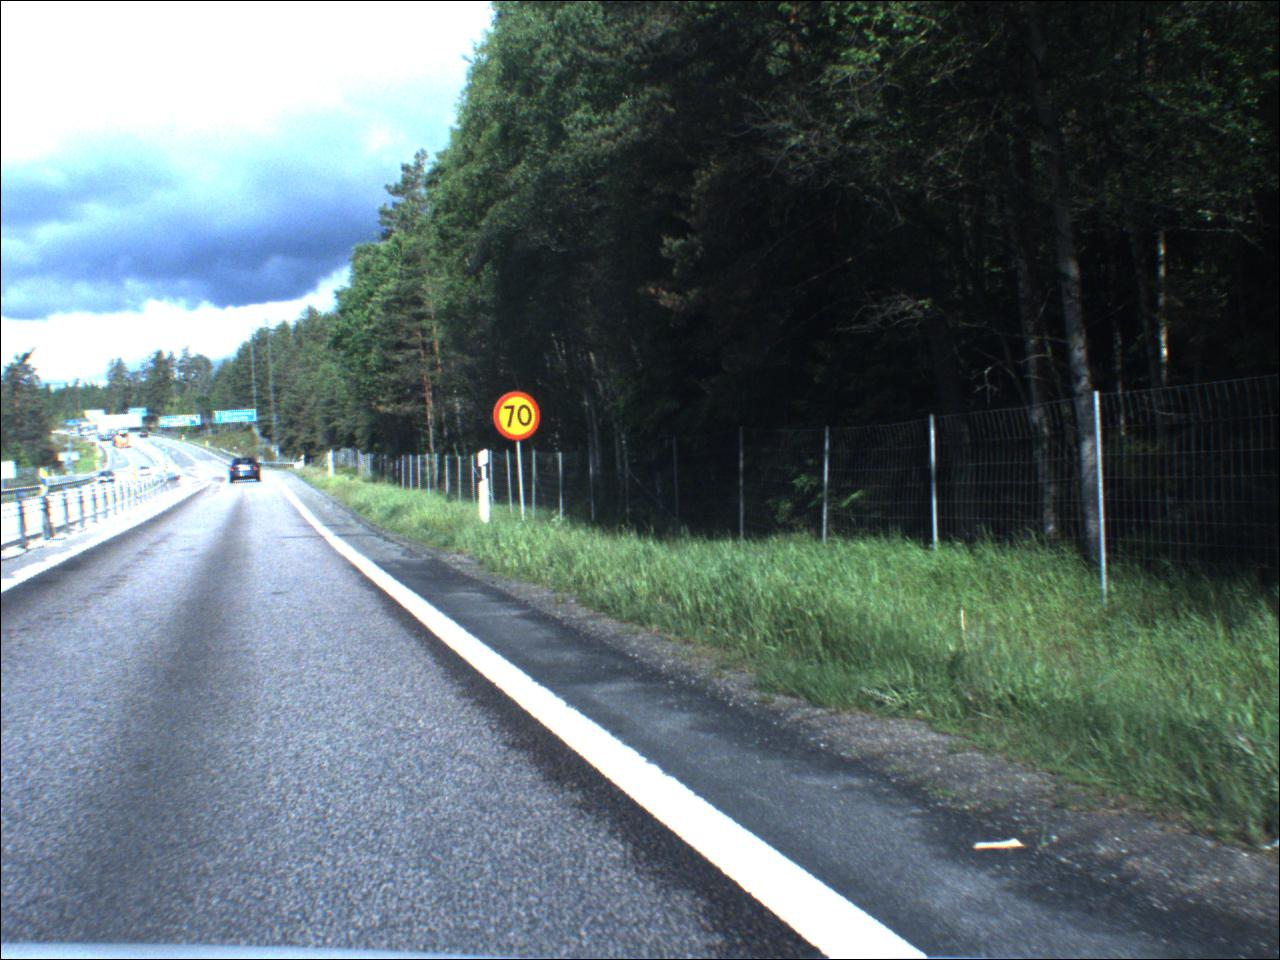70_SIGN: (495, 393, 543, 442)
